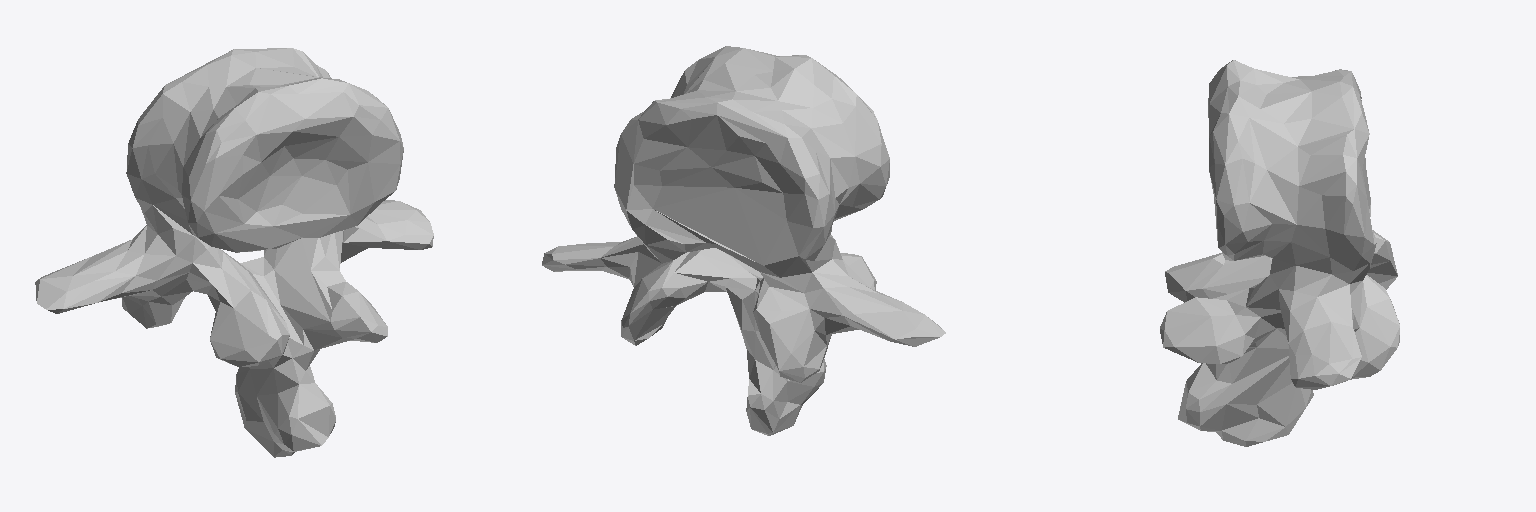
The model's file is transformed_Segment_22.obj.
3 renders of one model, left to right at view 1: azimuth 30°, elevation 25°; view 2: azimuth 150°, elevation 25°; view 3: azimuth 270°, elevation 25°, orthographic.
Size of the model in its own units: 0.099 by 0.0897 by 0.0526.